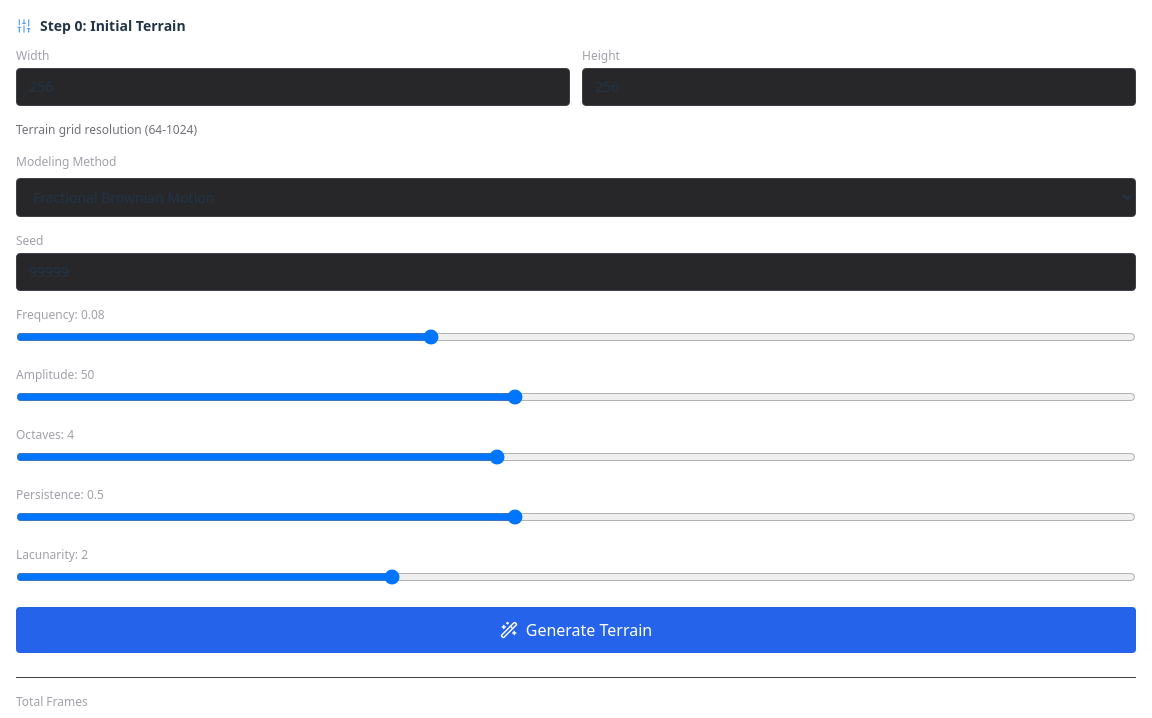
PipelineBuilder › handles network errors gracefully
The width and height of the screenshot is (1152, 718).
Click the button "Generate Terrain" at (576, 630), box [16, 607, 1136, 653]
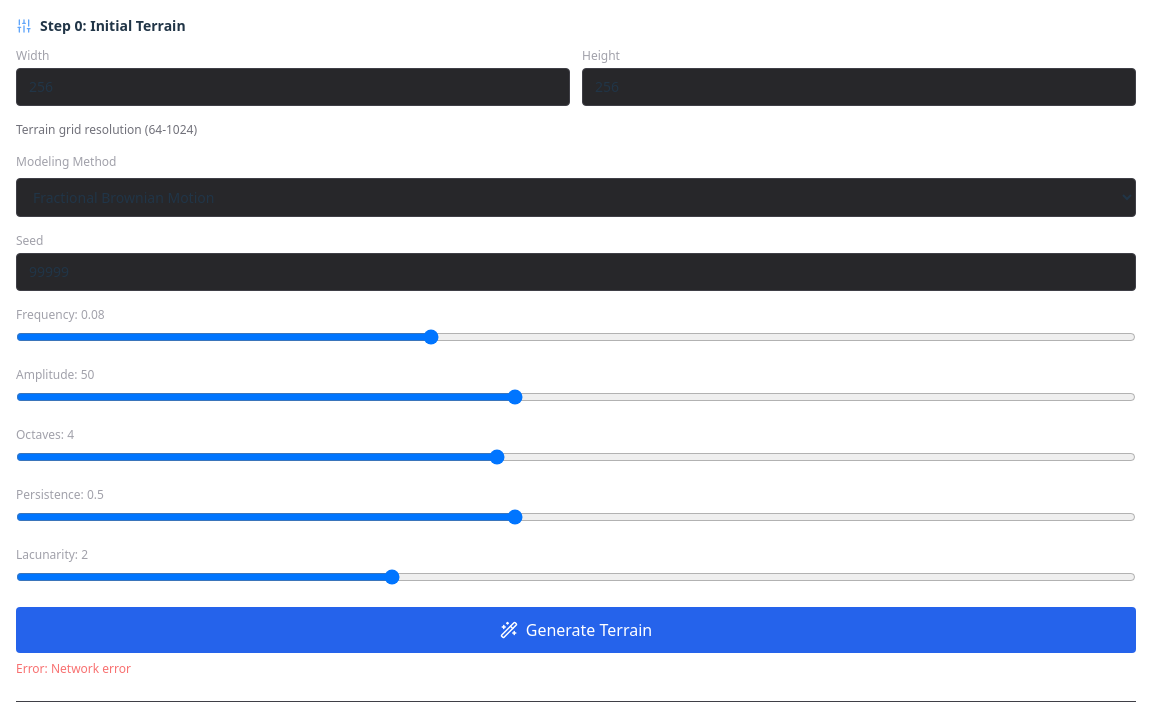
Check: the text "Error: Network error" is shown, box [16, 660, 131, 677]
